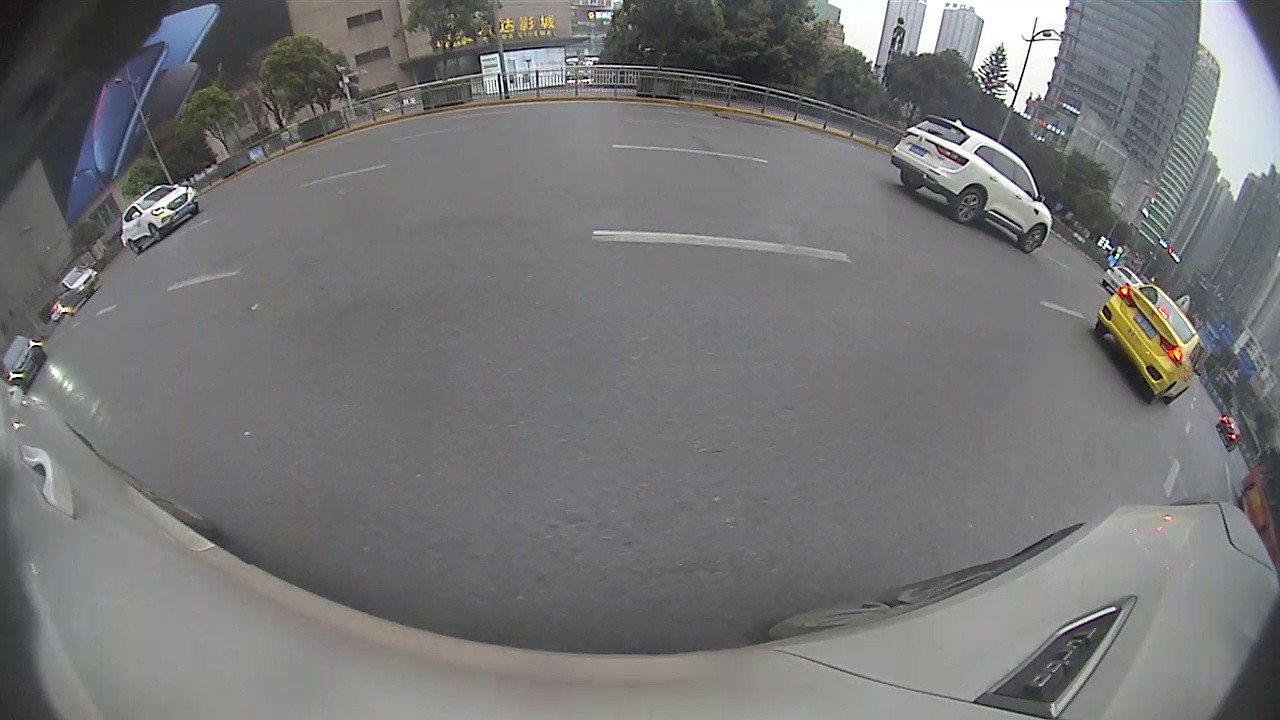car: (889, 113, 1055, 255), (1093, 282, 1205, 405), (118, 182, 199, 258), (3, 331, 48, 395)
front: (1020, 223, 1051, 253), (147, 226, 163, 244)
rear: (950, 188, 988, 227), (128, 241, 142, 257)
